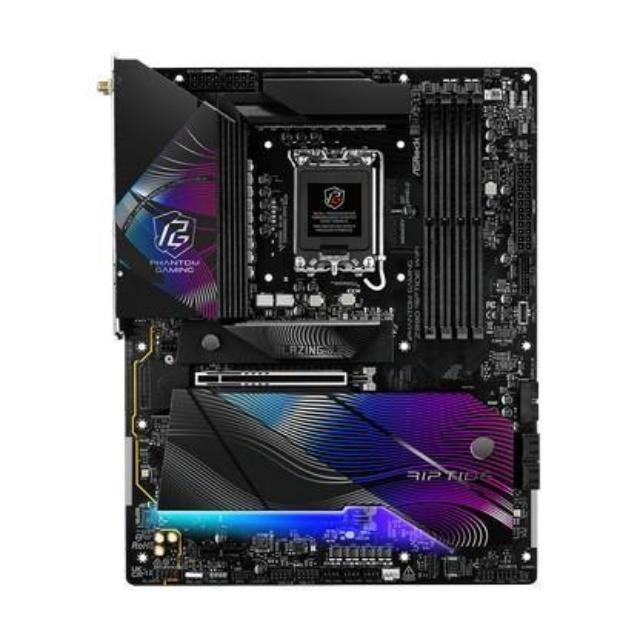Mainboard: (107, 52, 544, 590)
